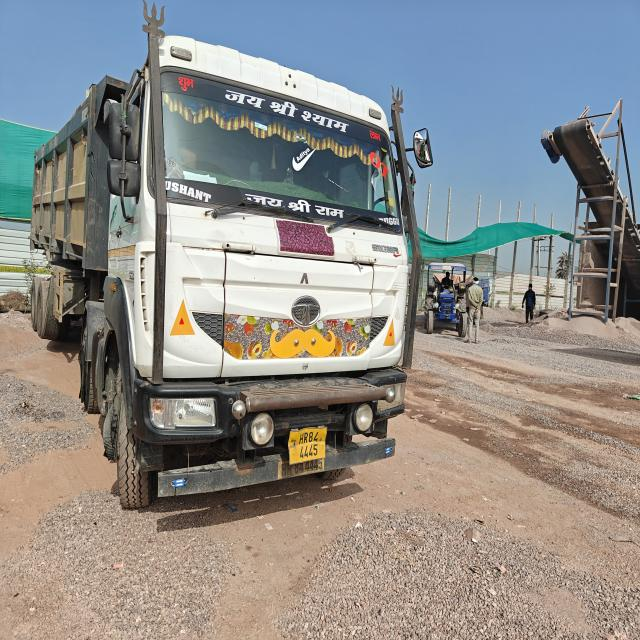license_plate: (289, 427, 326, 464), (278, 459, 324, 479)
